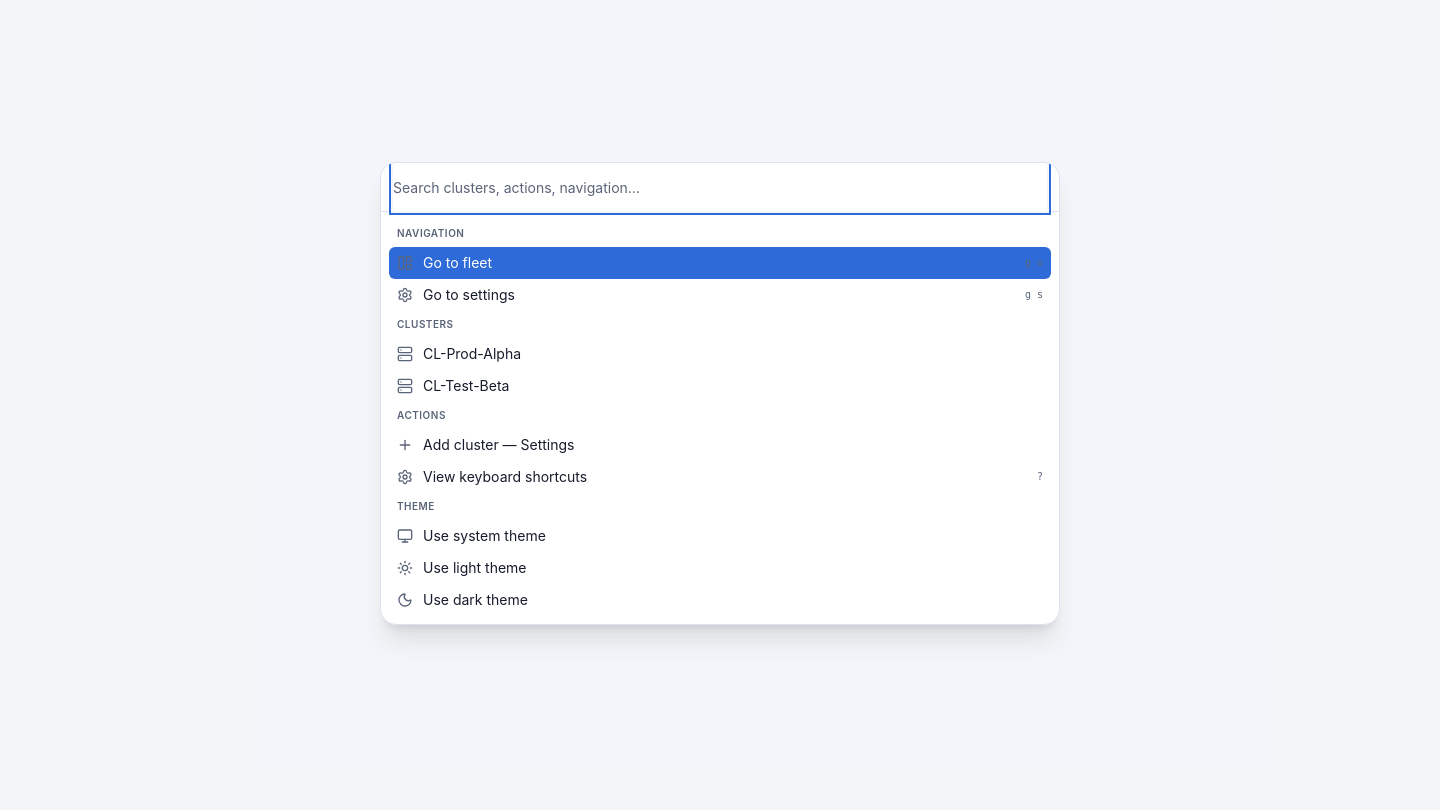
CommandPalette › opens via window CustomEvent and filters cluster items
Type "Alpha" into the dropdown with placeholder "Search clusters, actions, navigation…" at (720, 187), box [393,163,1047,211]
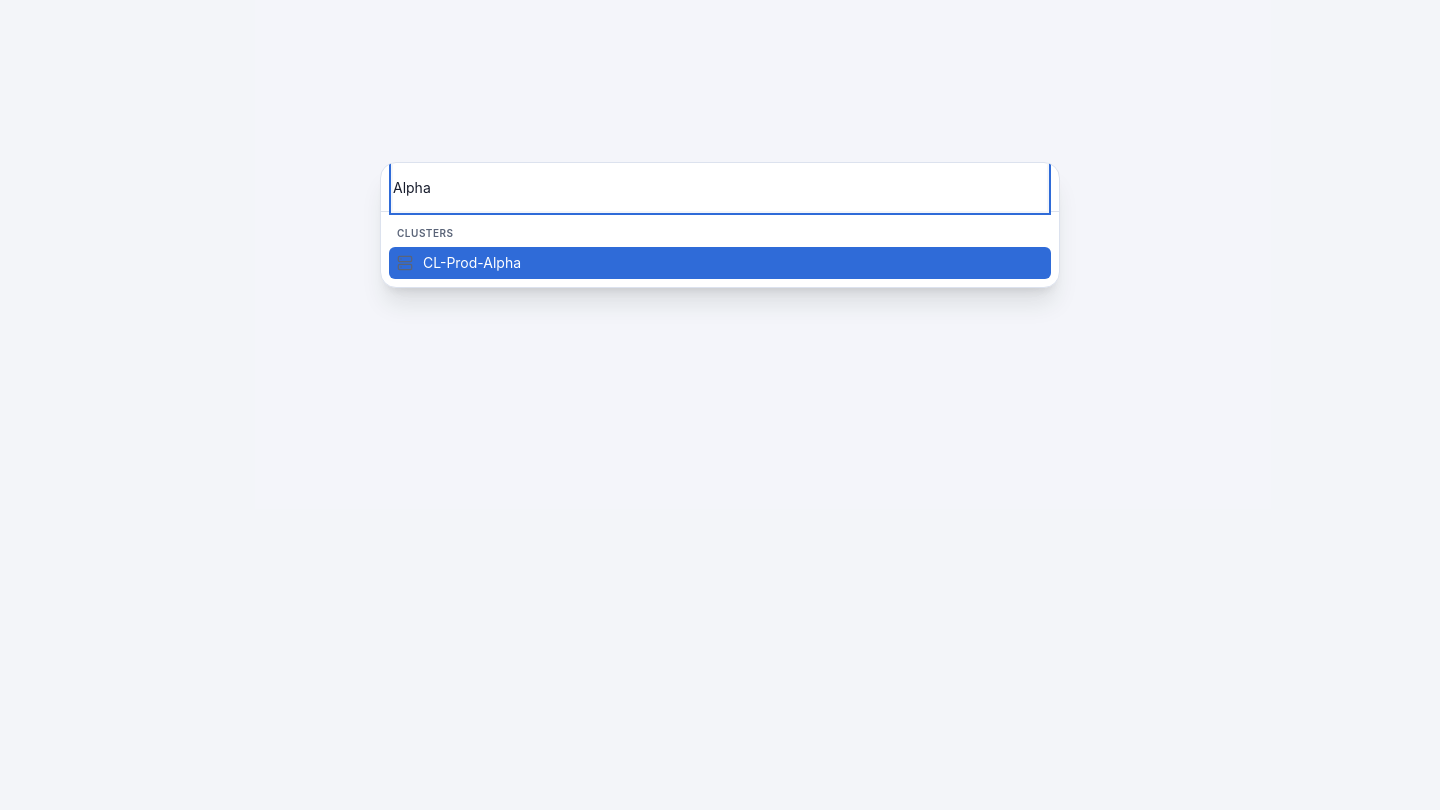
Check: the text "CL-Prod-Alpha" is shown, box [423,254,521,271]
Check: the option "CL-Test-Beta" is gone
